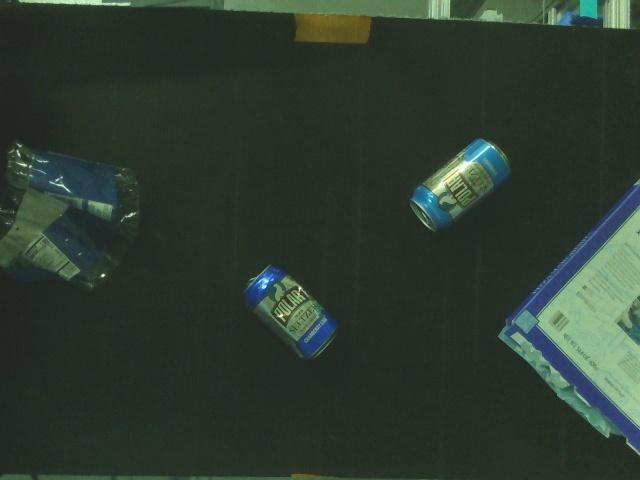cardboard: (496, 175, 640, 460)
metal: (406, 134, 516, 238), (242, 261, 344, 362)
plastic: (0, 137, 145, 292)
